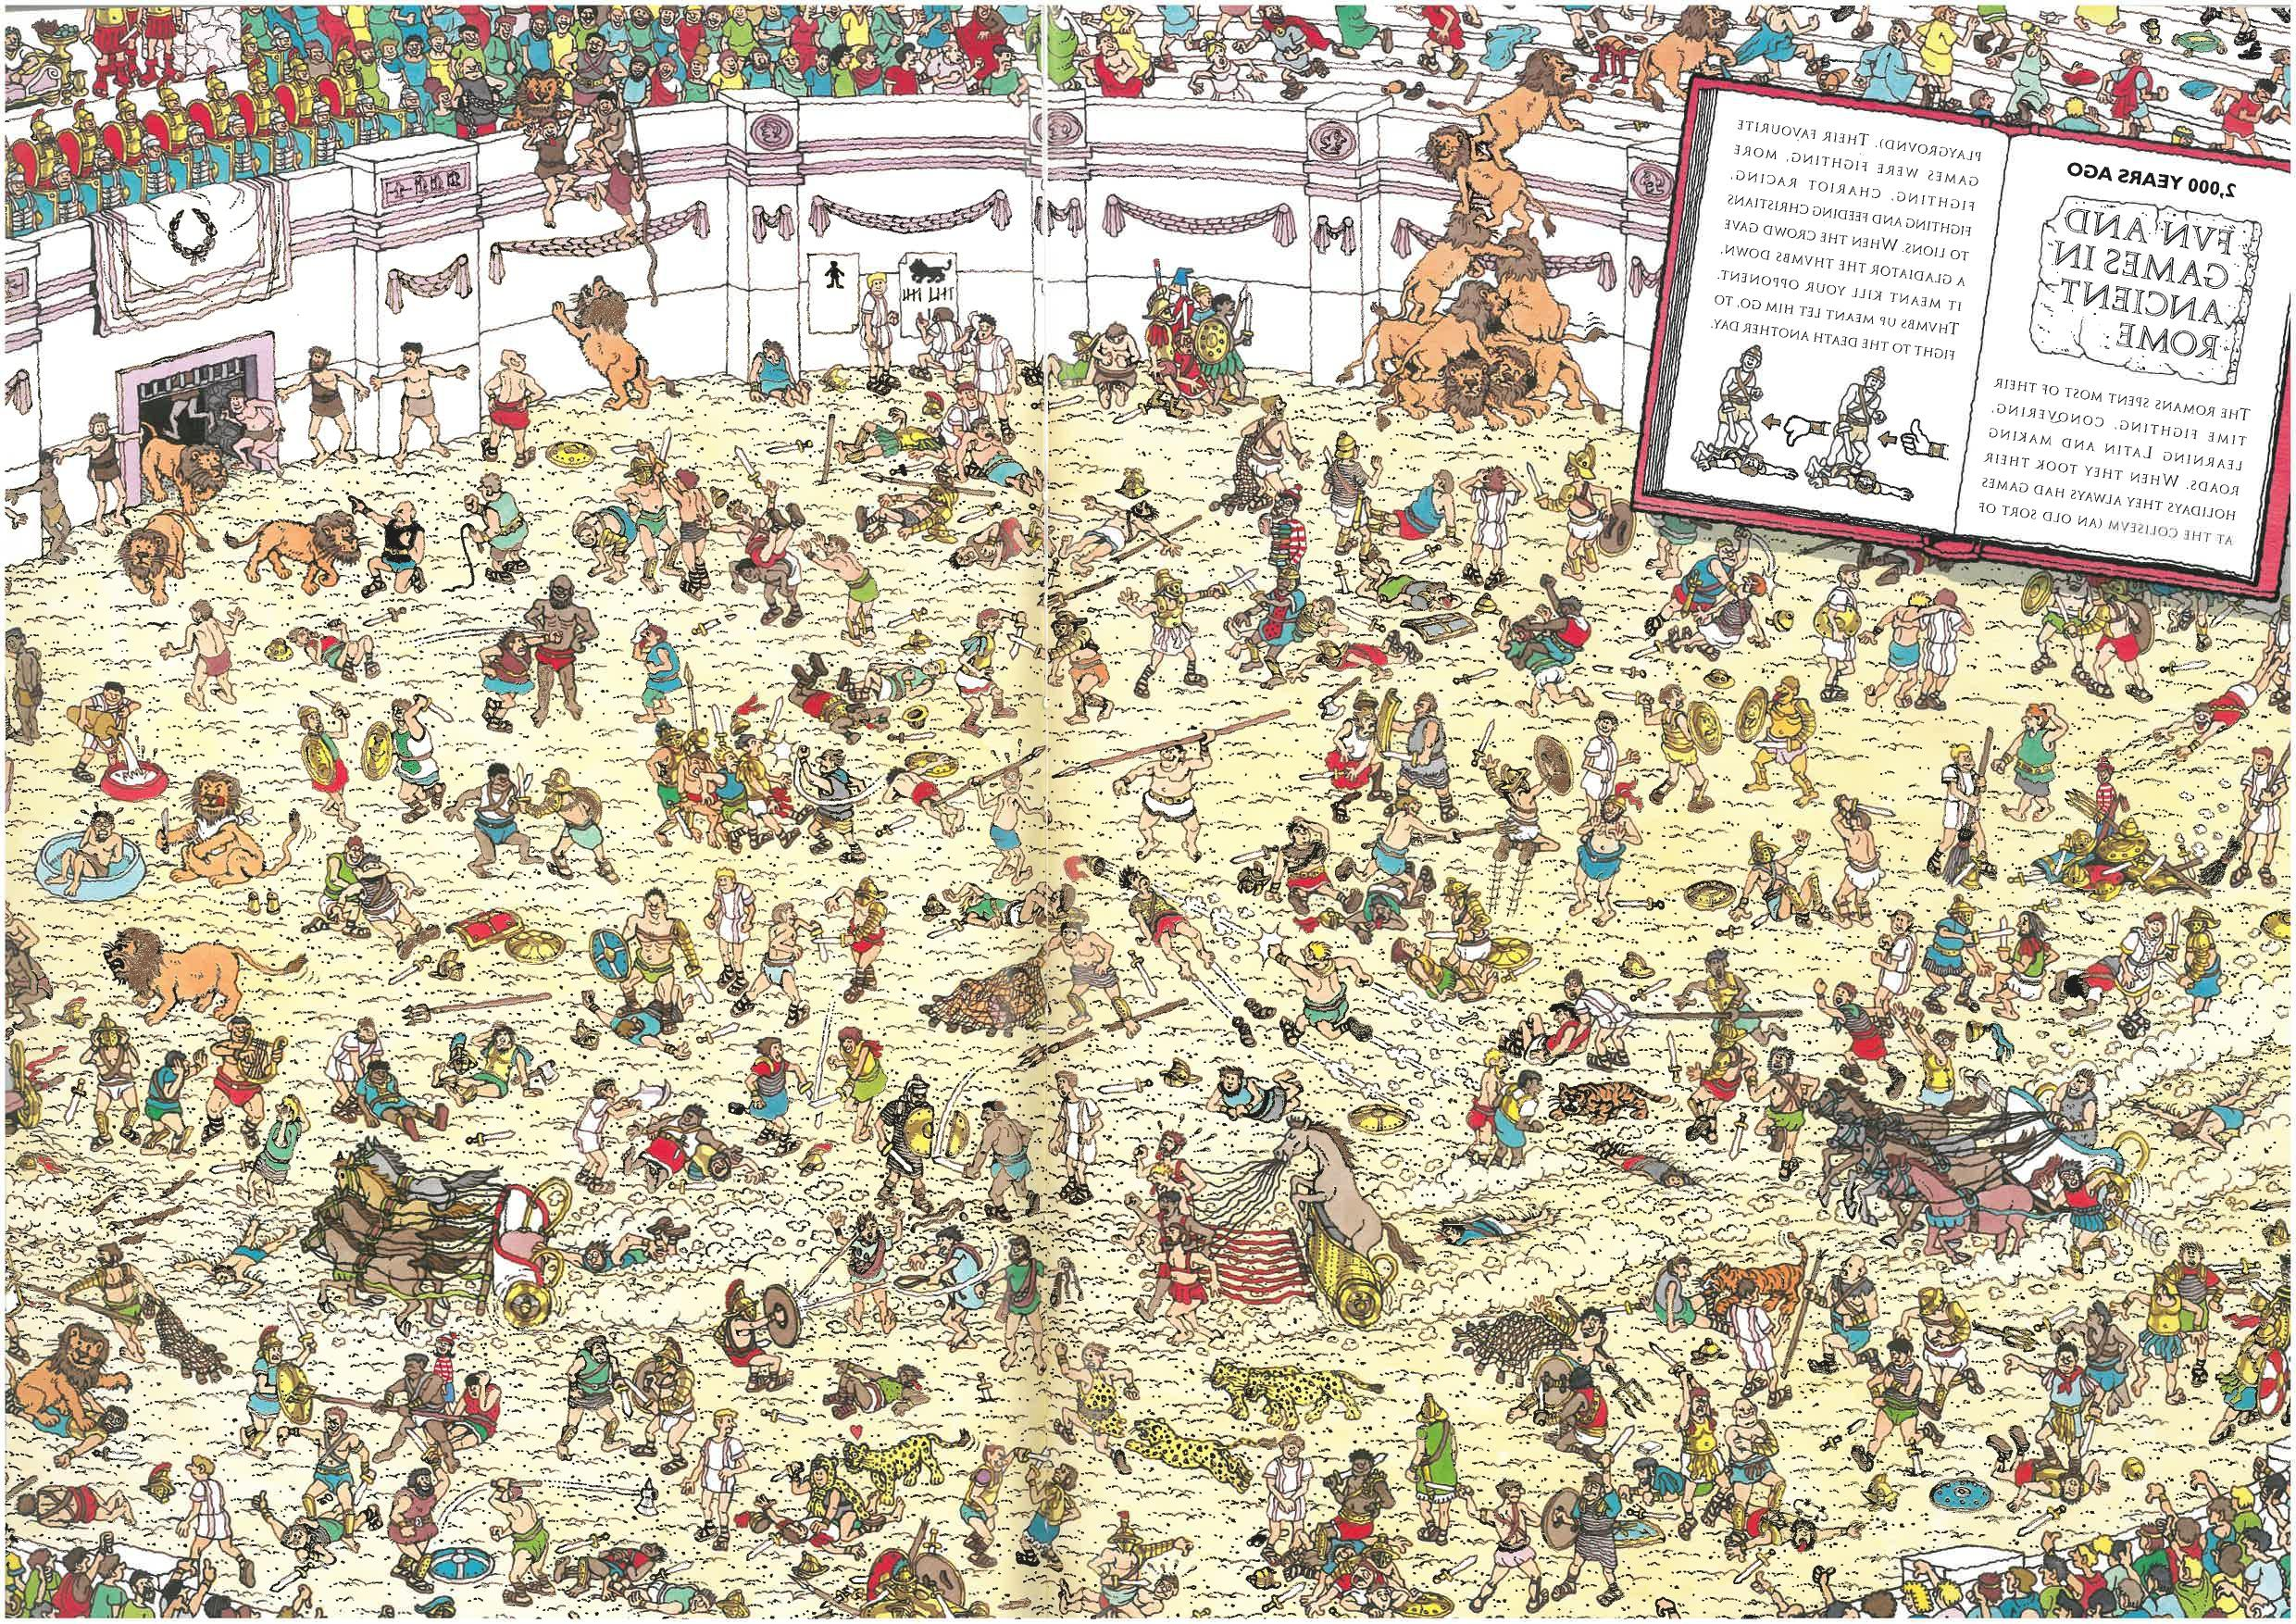waldos: (1258, 480, 1307, 585)
